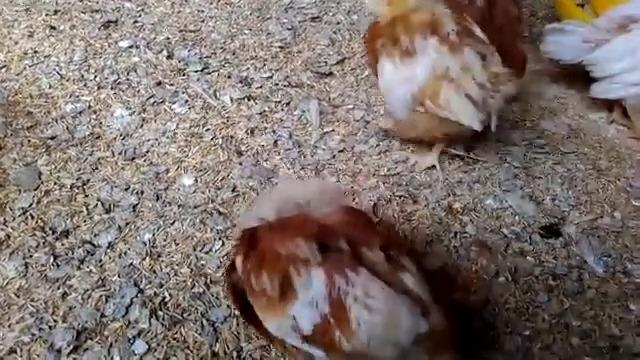AbNormal: (217, 179, 445, 357)
